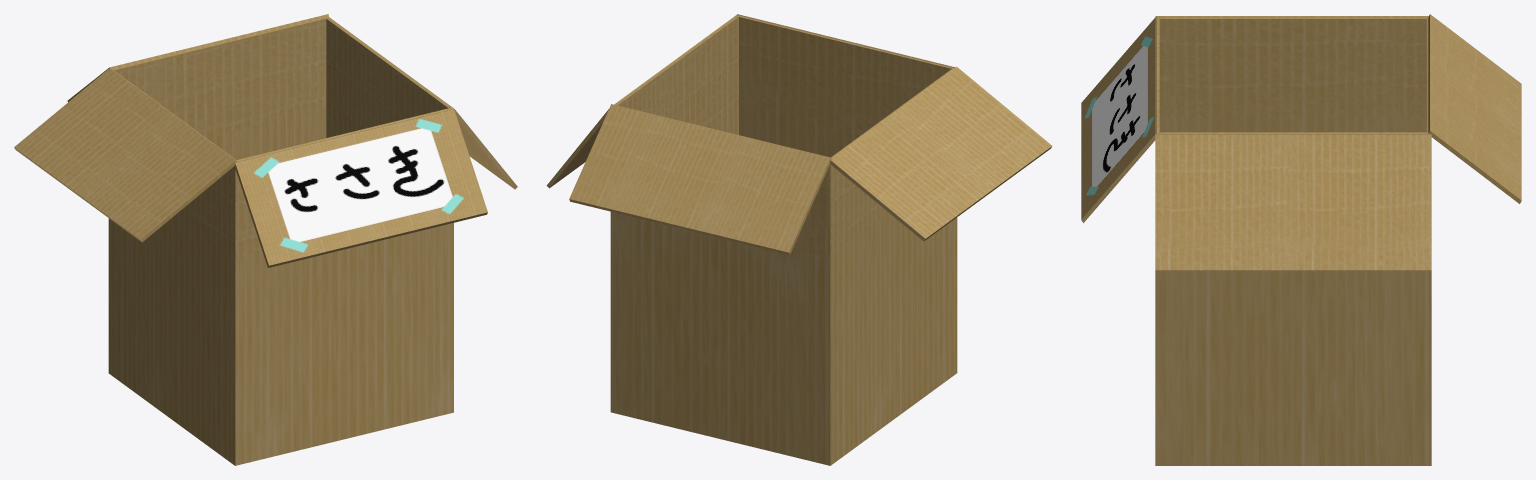
File: Cardboard_MsgF.fbx
3 renders of one model, left to right at view 1: azimuth 30°, elevation 25°; view 2: azimuth 150°, elevation 25°; view 3: azimuth 270°, elevation 25°, orthographic. The views are drawn at different scales.
Visible parts, largest first — view 1: Cardboard_MsgFtype; view 2: Cardboard_MsgFtype; view 3: Cardboard_MsgFtype.
Part boxes in pixels (x1=…): Cardboard_MsgFtype: x1=14, y1=14, x2=517, y2=465; Cardboard_MsgFtype: x1=546, y1=14, x2=1052, y2=465; Cardboard_MsgFtype: x1=1081, y1=14, x2=1521, y2=465.
Bounding box in the file's own units: 345 × 268 × 319.
